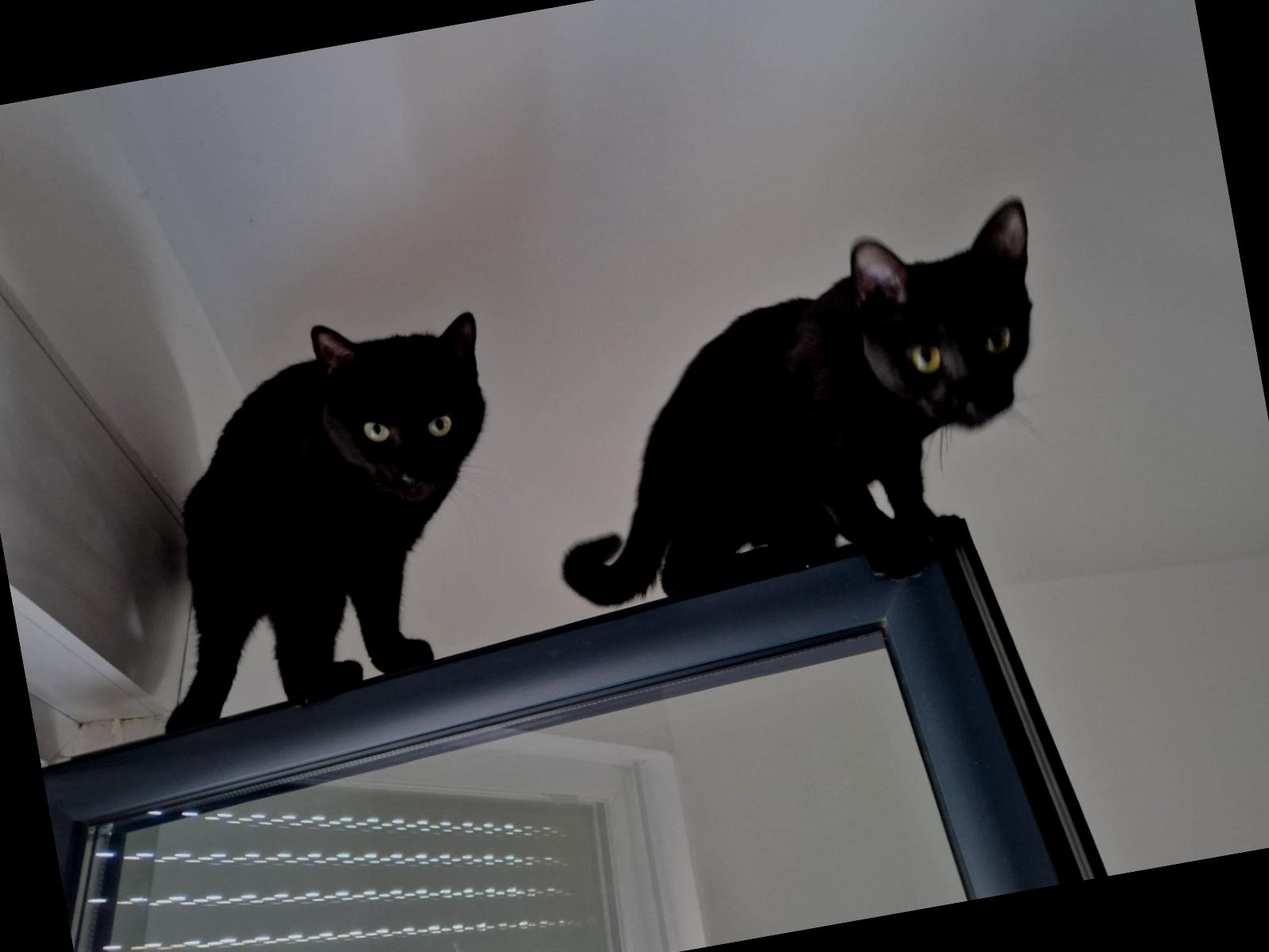macka: (510, 194, 1089, 633), (92, 292, 539, 740)
